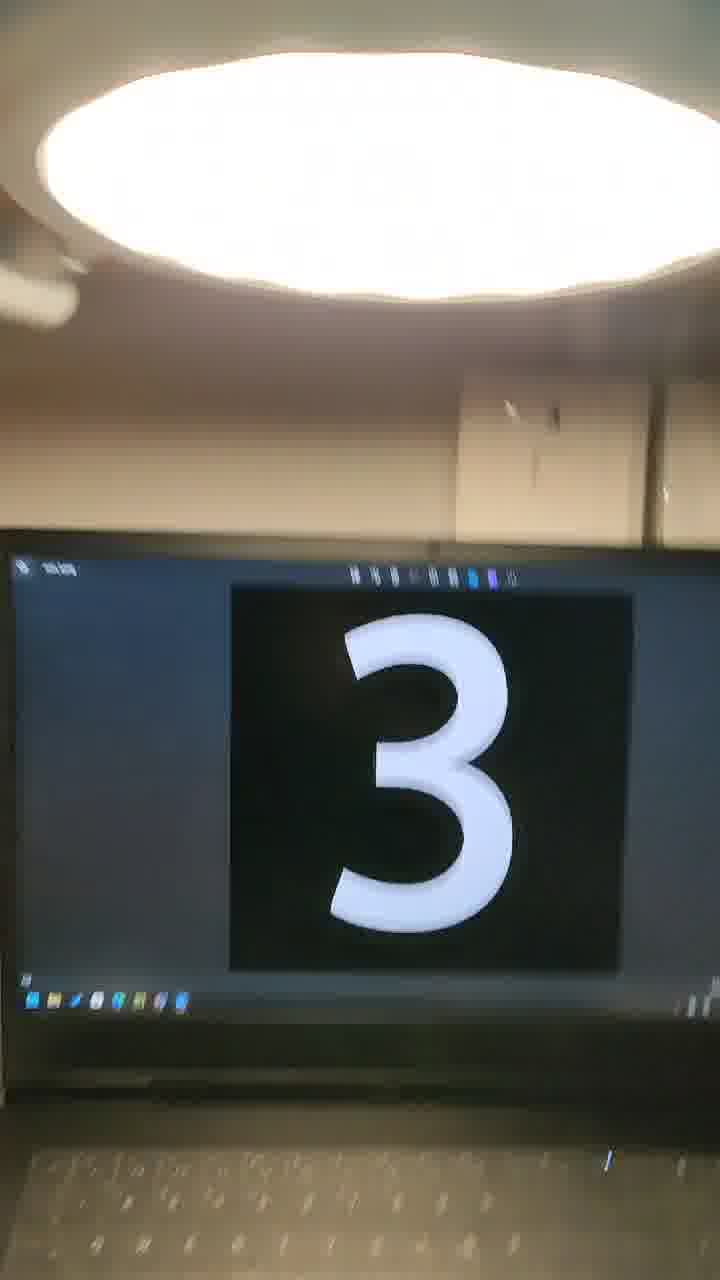three: (241, 544, 550, 928)
